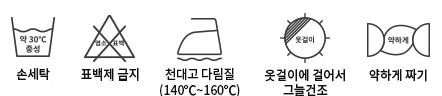KR_gentle_wring: (361, 15, 436, 63)
KR_hand_wash_30_neutral: (9, 11, 56, 61)
KR_hang_dry_in_shade: (277, 11, 331, 64)
KR_no_chlorine_bleach: (78, 10, 138, 63)
